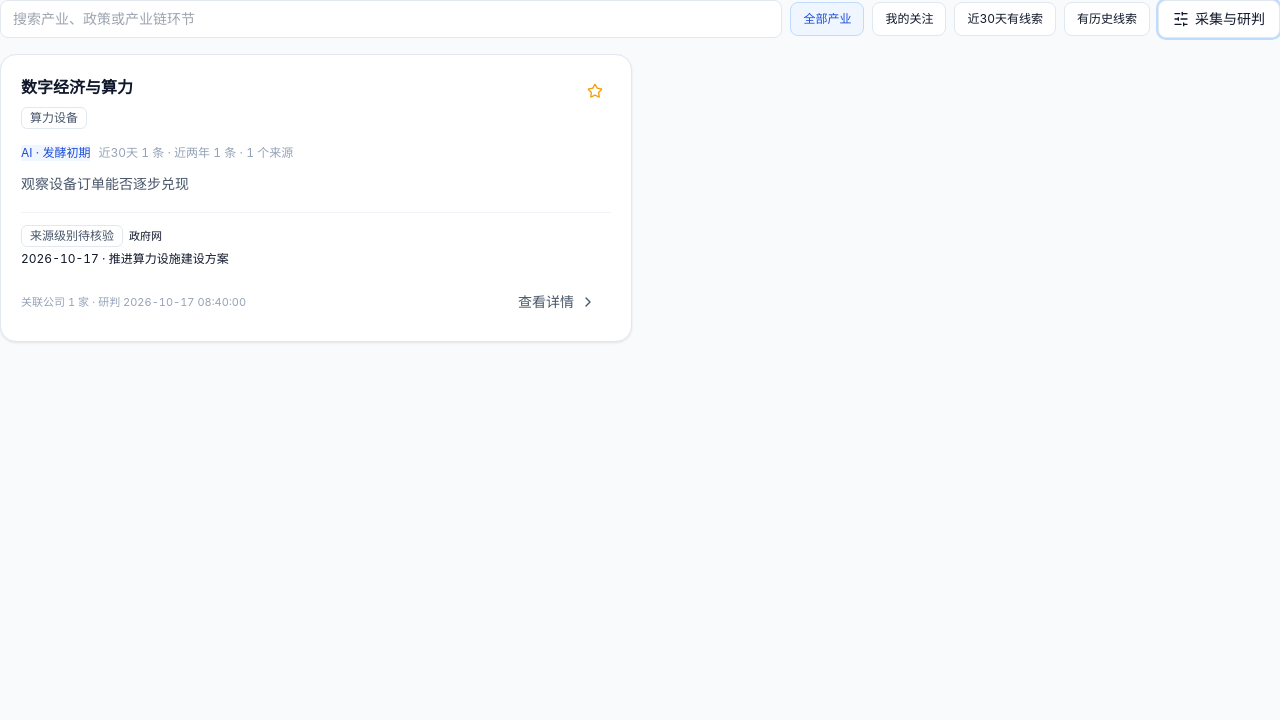
daily policy research board › shows industry cards first and opens collection controls on demand without launching paid analysis
Expected: the text "每日产业情报" is not shown
Expected: the text "每天08:30" is not shown
Click the button "采集与研判" at (1219, 19), box x1=1158 y1=0 x2=1279 y2=38
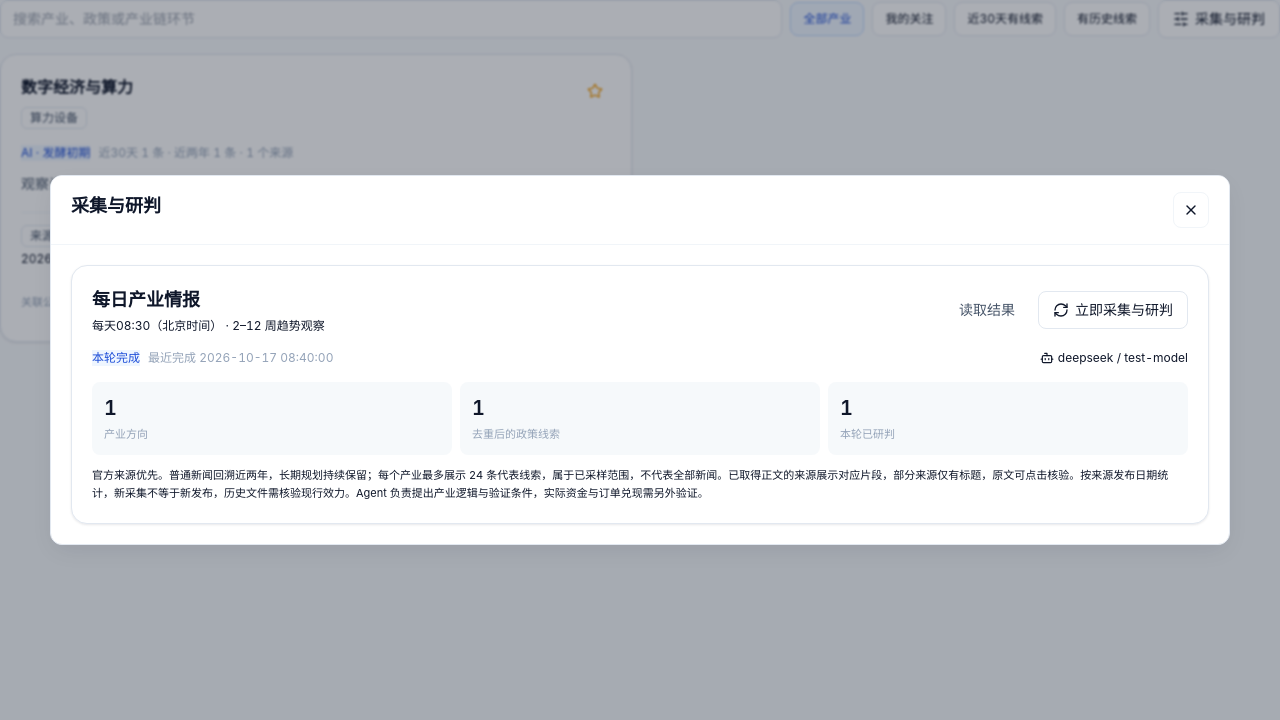
Now the dialog shows "每天08:30", box x1=92 y1=318 x2=222 y2=333
Now the dialog shows "部分来源仅有标题", box x1=92 y1=468 x2=1168 y2=500
Now the dialog shows "读取结果", box x1=944 y1=291 x2=1030 y2=329
Press Escape in the dialog, box x1=50 y1=175 x2=1230 y2=545
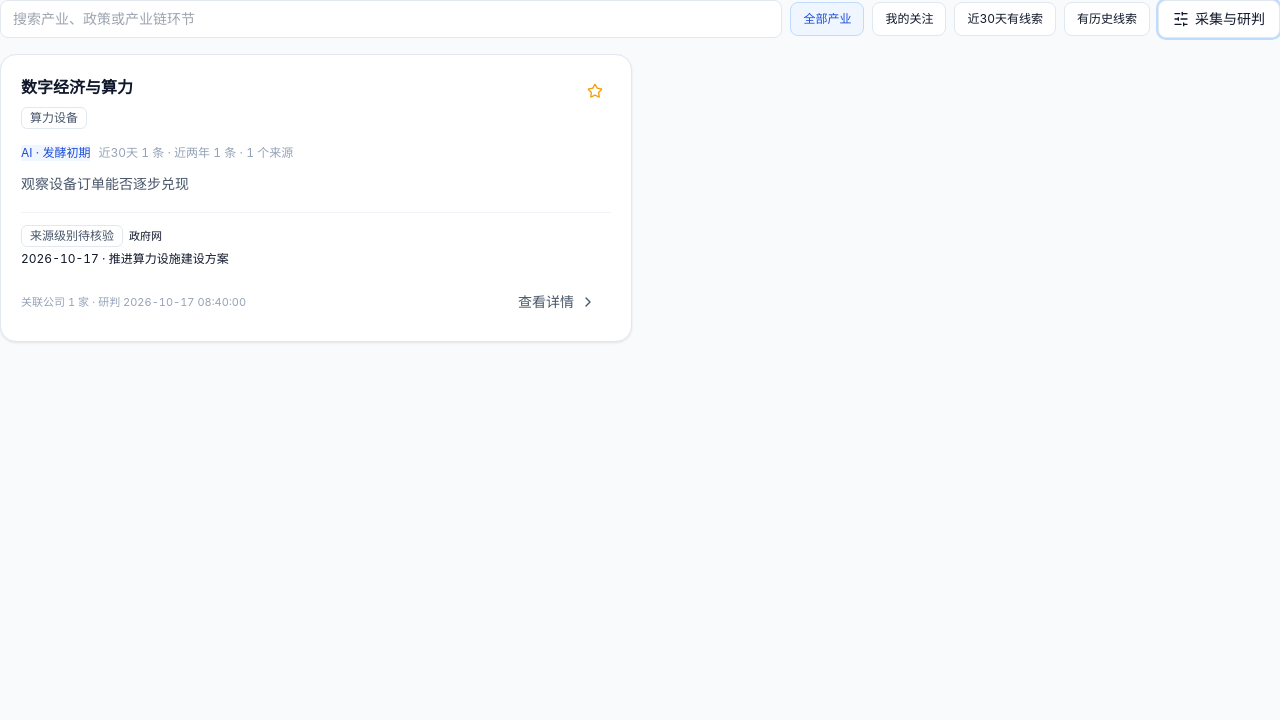
Expected: the button "采集与研判" is shown, x1=1158 y1=0 x2=1279 y2=38
Now the dialog is gone
